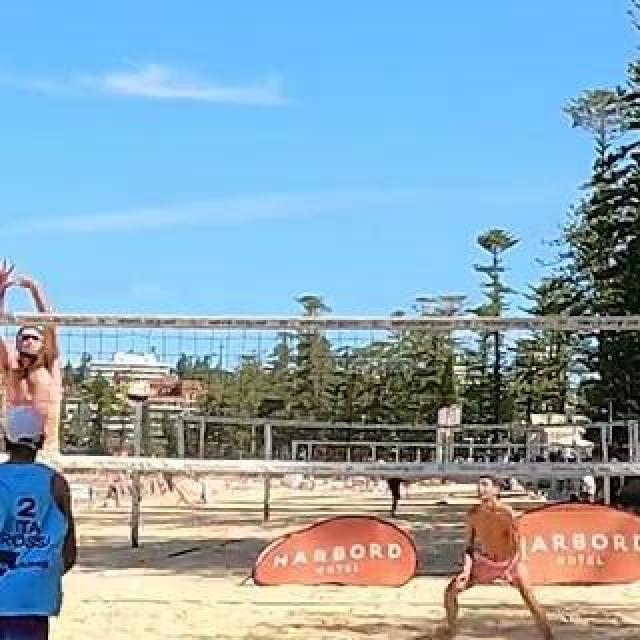volleyball: (125, 381, 149, 407)
